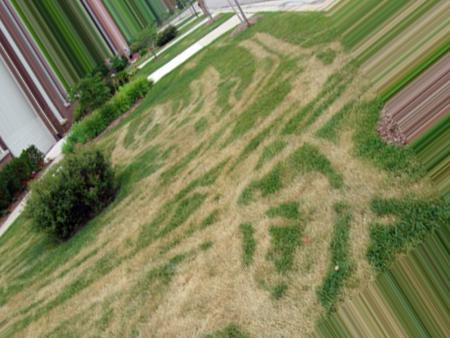patch: (147, 114, 235, 179), (172, 266, 249, 310), (319, 140, 378, 194), (116, 198, 188, 239), (55, 277, 138, 309), (209, 191, 247, 254), (259, 295, 305, 333), (303, 214, 328, 275), (294, 57, 331, 86), (246, 34, 276, 56)
